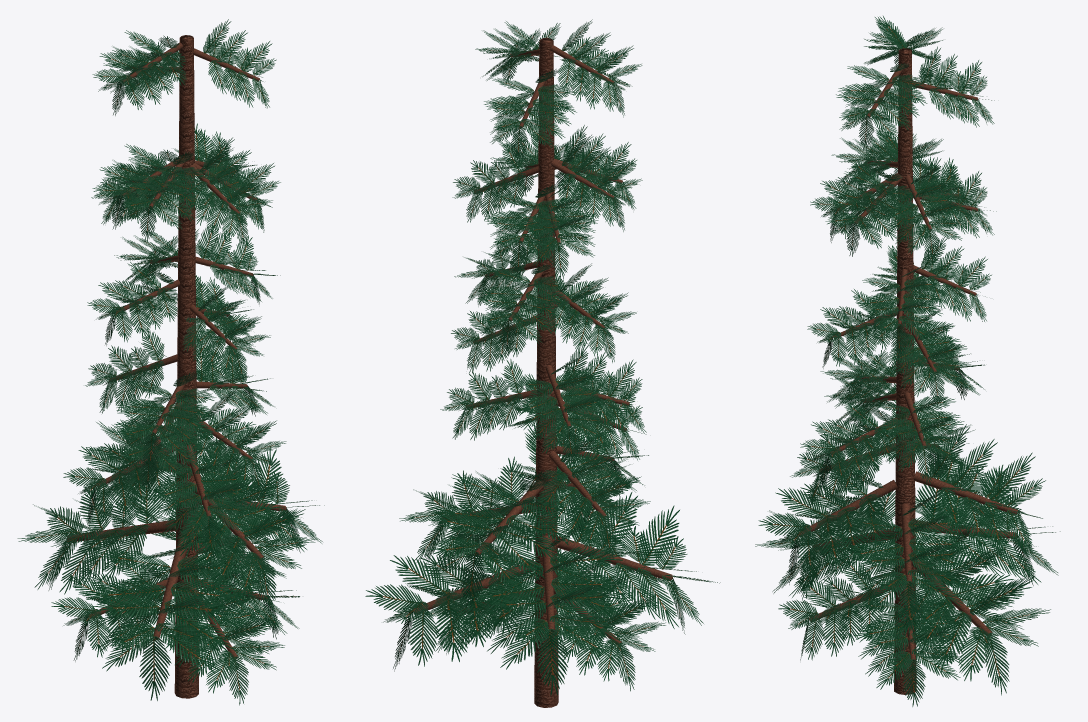
Rendered from Tree1.fbx.
3 renders of one model, left to right at view 1: azimuth 30°, elevation 25°; view 2: azimuth 150°, elevation 25°; view 3: azimuth 270°, elevation 25°, orthographic. The views are drawn at different scales.
Parts seen in each view (by area): view 1: TreeBase, Leaves1 (×4), Leaves3 (×3), Leaves19 (×3), Leaves2 (×3), Leaves7 (×3), Leaves6 (×3), Leaves15 (×3), Leaves17 (×3), Leaves13 (×3), Leaves8 (×3), Leaves18 (×2) (+10 smaller); view 2: TreeBase, Leaves19 (×4), Leaves3 (×3), Leaves7 (×4), Leaves2 (×3), Leaves18 (×3), Leaves15 (×3), Leaves17 (×3), Leaves1 (×2), Leaves6 (×2), Leaves14 (×2), Leaves4 (×2) (+12 smaller); view 3: TreeBase, Leaves15 (×4), Leaves1 (×3), Leaves14 (×3), Leaves16 (×3), Leaves13 (×3), Leaves18 (×3), Leaves3 (×3), Leaves6 (×3), Leaves19 (×3), Leaves2 (×3), Leaves12 (×2) (+12 smaller).
Boxes of the visible parts, box(x1,y1,x2,y2) form: TreeBase: box(174, 35, 198, 698); Leaves1 (×4): box(139, 515, 276, 705); Leaves3 (×3): box(59, 474, 234, 653); Leaves19 (×3): box(78, 446, 158, 619); Leaves2 (×3): box(34, 538, 219, 673); Leaves7 (×3): box(163, 510, 298, 637); Leaves6 (×3): box(77, 500, 281, 606); Leaves15 (×3): box(98, 495, 245, 651); Leaves17 (×3): box(45, 506, 154, 650); Leaves13 (×3): box(102, 552, 261, 693); Leaves8 (×3): box(17, 529, 315, 643); Leaves18 (×2): box(85, 480, 195, 606); TreeBase: box(534, 38, 558, 707); Leaves19 (×4): box(390, 470, 545, 614); Leaves3 (×3): box(435, 532, 622, 661); Leaves7 (×4): box(431, 524, 650, 617); Leaves2 (×3): box(408, 547, 617, 666); Leaves18 (×3): box(420, 503, 542, 605); Leaves15 (×3): box(487, 498, 678, 653); Leaves17 (×3): box(365, 536, 550, 643); Leaves1 (×2): box(460, 550, 568, 695); Leaves6 (×2): box(506, 514, 625, 595); Leaves14 (×2): box(478, 563, 660, 631); Leaves4 (×2): box(458, 521, 559, 646); TreeBase: box(894, 48, 916, 694); Leaves15 (×4): box(856, 502, 1041, 672); Leaves1 (×3): box(897, 580, 1009, 706); Leaves14 (×3): box(912, 498, 1026, 655); Leaves16 (×3): box(896, 488, 1004, 637); Leaves13 (×3): box(867, 510, 1032, 681); Leaves18 (×3): box(842, 540, 952, 641); Leaves3 (×3): box(819, 520, 968, 656); Leaves6 (×3): box(835, 507, 1013, 598); Leaves19 (×3): box(775, 487, 903, 607); Leaves2 (×3): box(797, 531, 963, 660); Leaves12 (×2): box(970, 452, 1035, 615).
Bounding box in the file's own units: 8.59 × 20.23 × 8.93.
2 materials, 2 textured.
